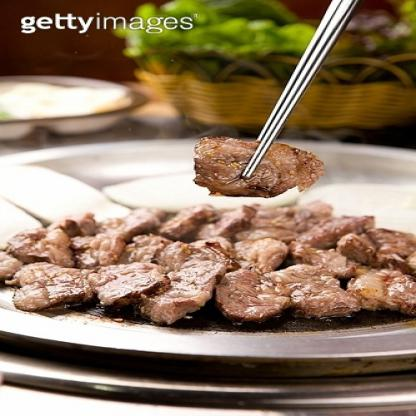Carne: (197, 140, 318, 199), (214, 266, 292, 322), (10, 265, 96, 312), (164, 243, 218, 317), (92, 257, 163, 306), (350, 266, 415, 316), (287, 267, 366, 308), (0, 227, 78, 267), (251, 209, 300, 271), (311, 210, 362, 268), (355, 224, 415, 270), (198, 203, 253, 244), (65, 233, 119, 268)
